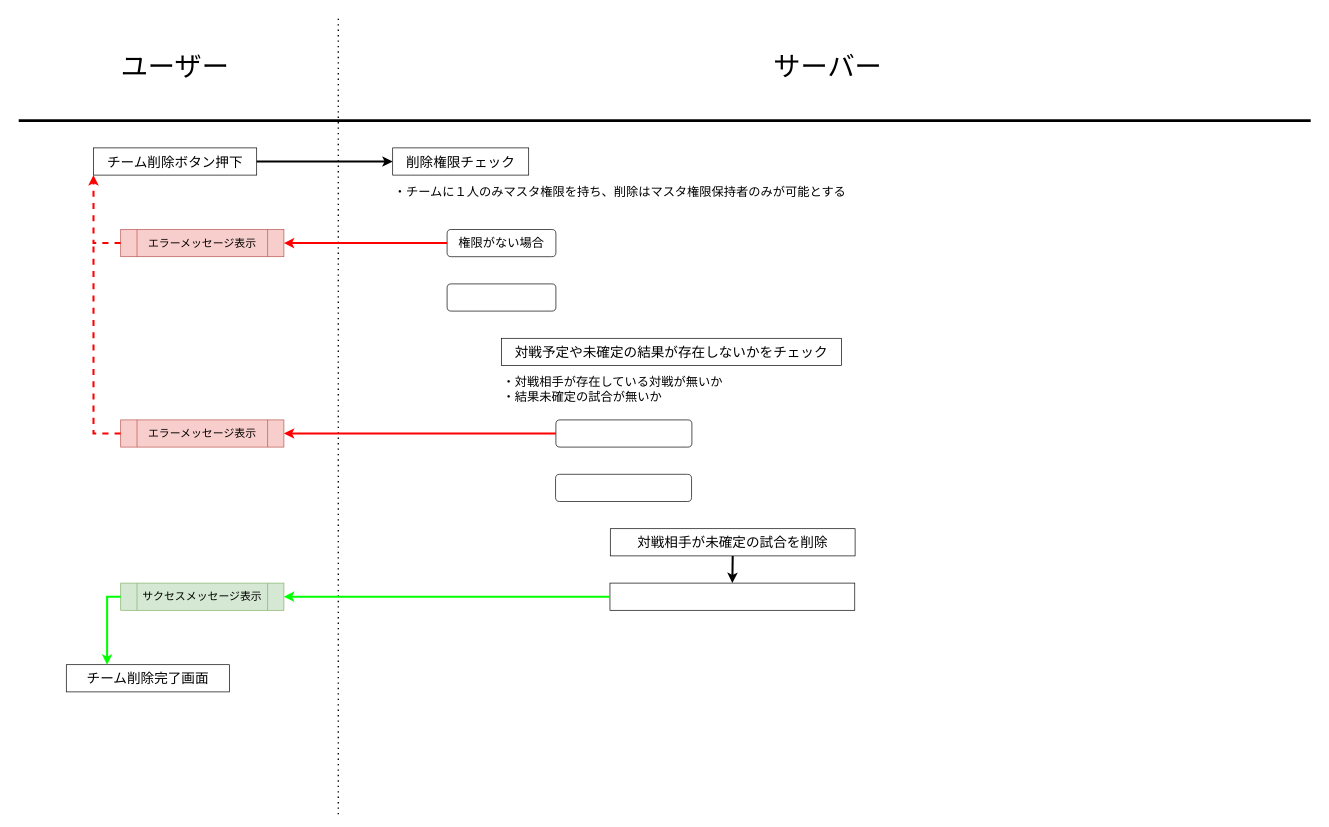
Some shapes in this 1329 by 827 pixel diagram are drawn without their labels. Each missing label, with the centre of its shape:
"チームメンバーの紐づきを全削除" goes at point 732,596.
"存在しない場合" goes at point 623,488.
"存在する場合" goes at point 623,433.
"権限がある場合" goes at point 501,297.
